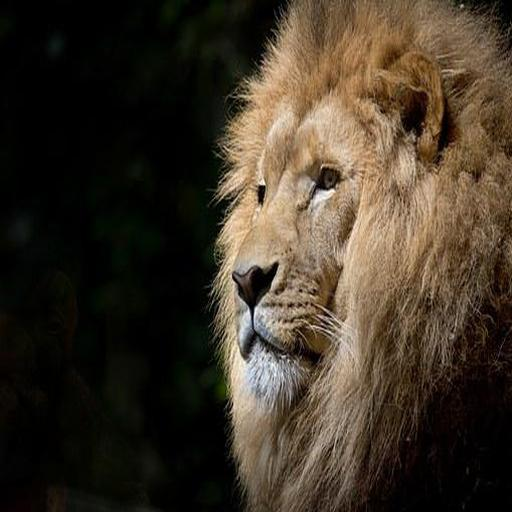Lion: (202, 0, 512, 512)
